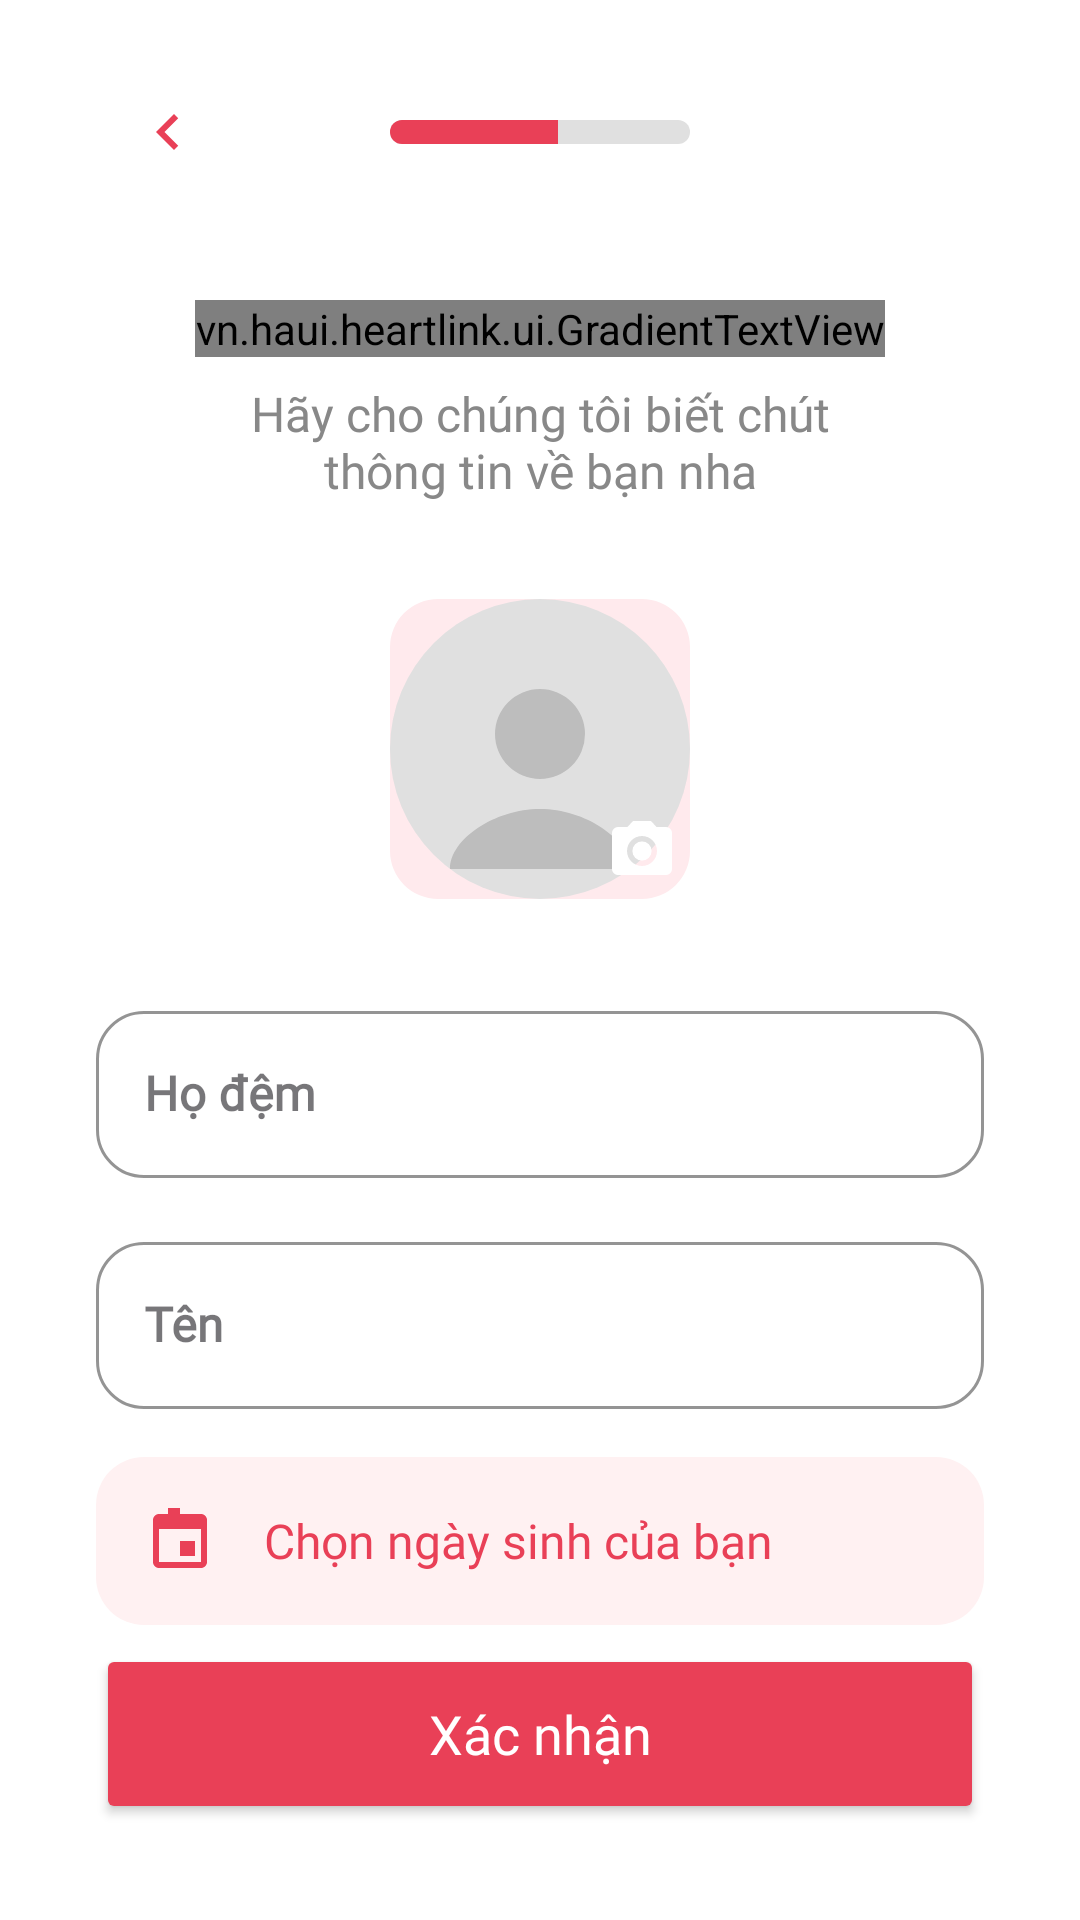

Screen size 1080×1920. Icon name, then its box in pixels as bbox=[x1, y1, x2, y2]:
back arrow: bbox=[156, 114, 178, 150]
